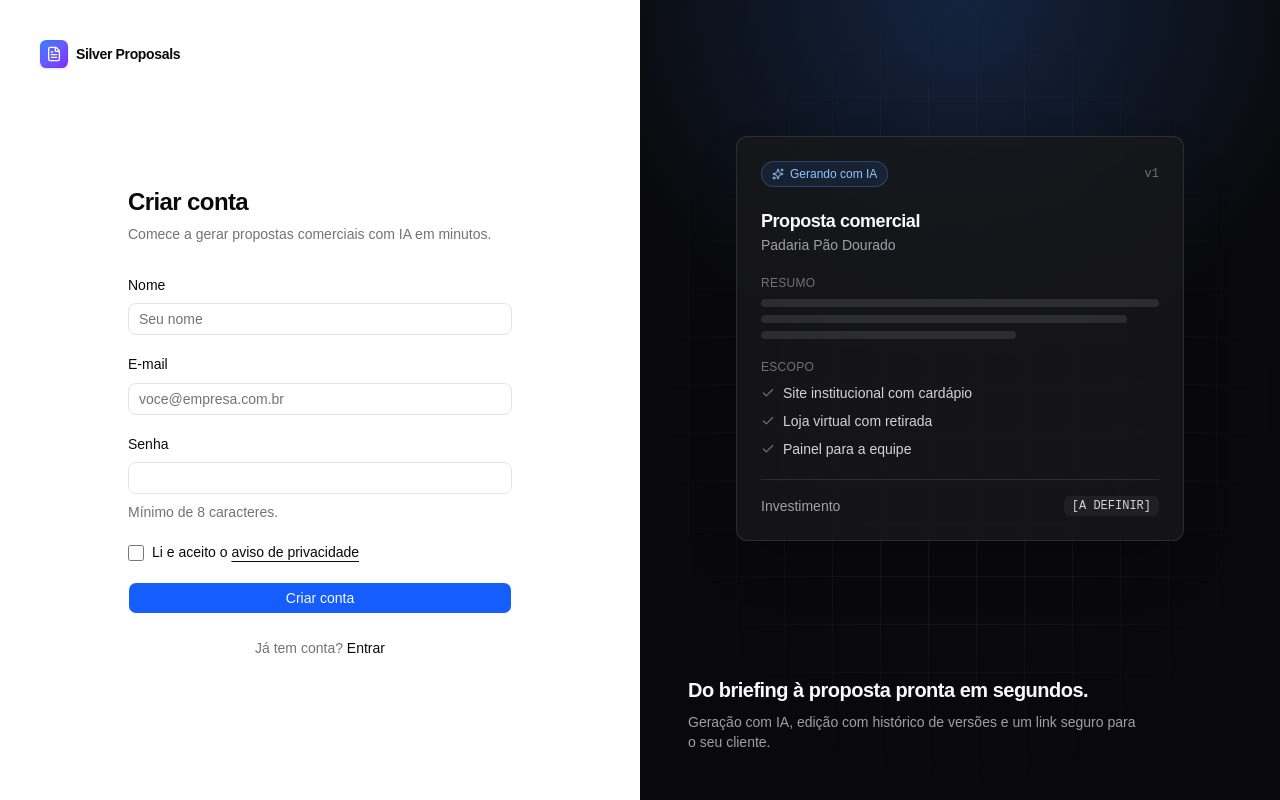
Test: RegisterPage › requires accepting the privacy notice, which opens in a new tab
In the field labelled "Nome": (320, 319) [128,303,512,335], type "Ana Lima"
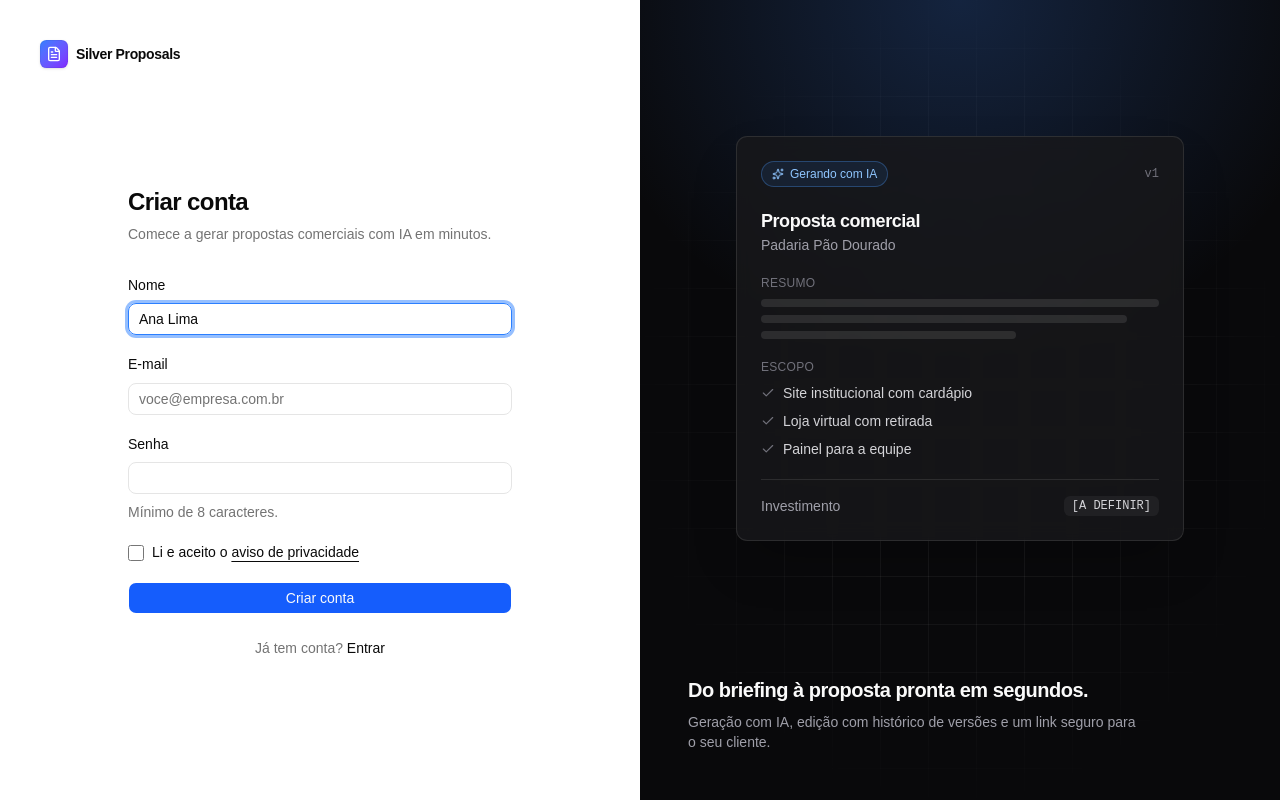
In the field labelled "E-mail": (320, 398) [128,382,512,414], type "ana@example.com"
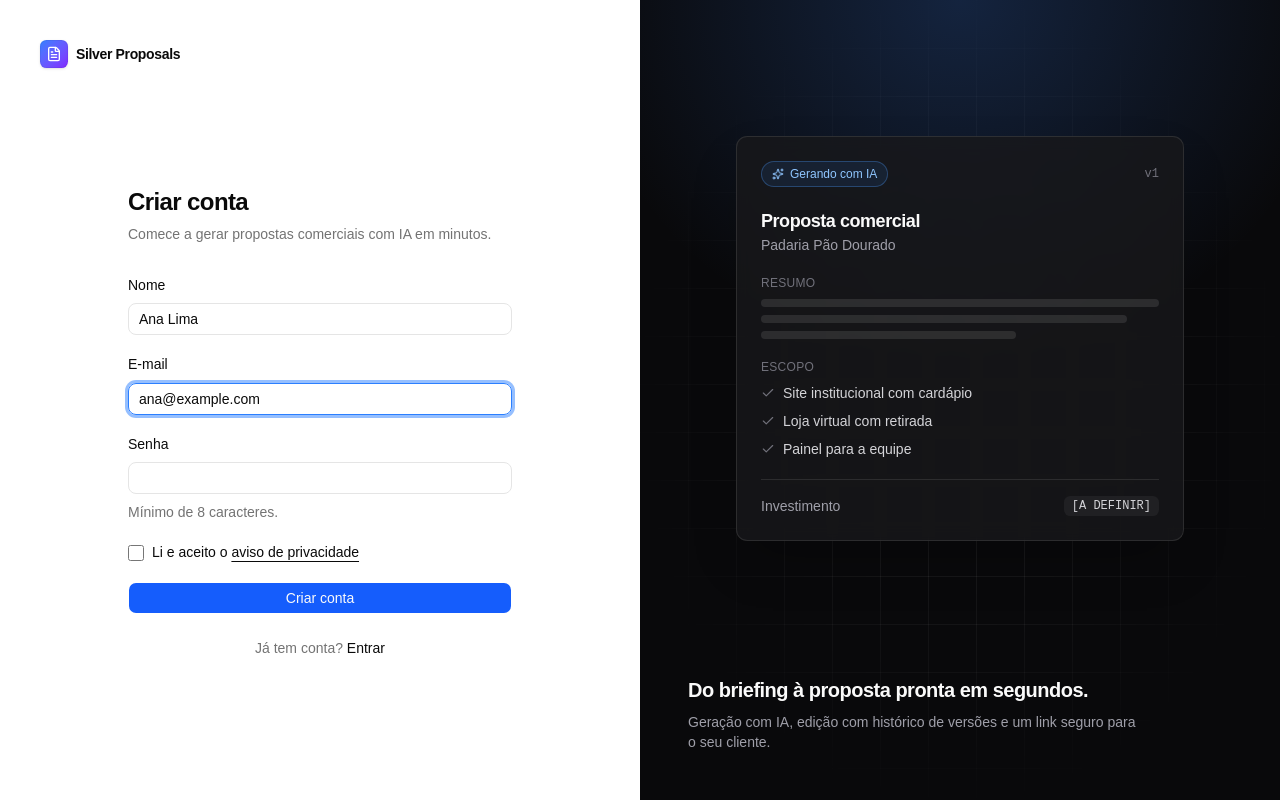
In the password field labelled "Senha": (320, 478) [128,462,512,494], type "uma senha longa"
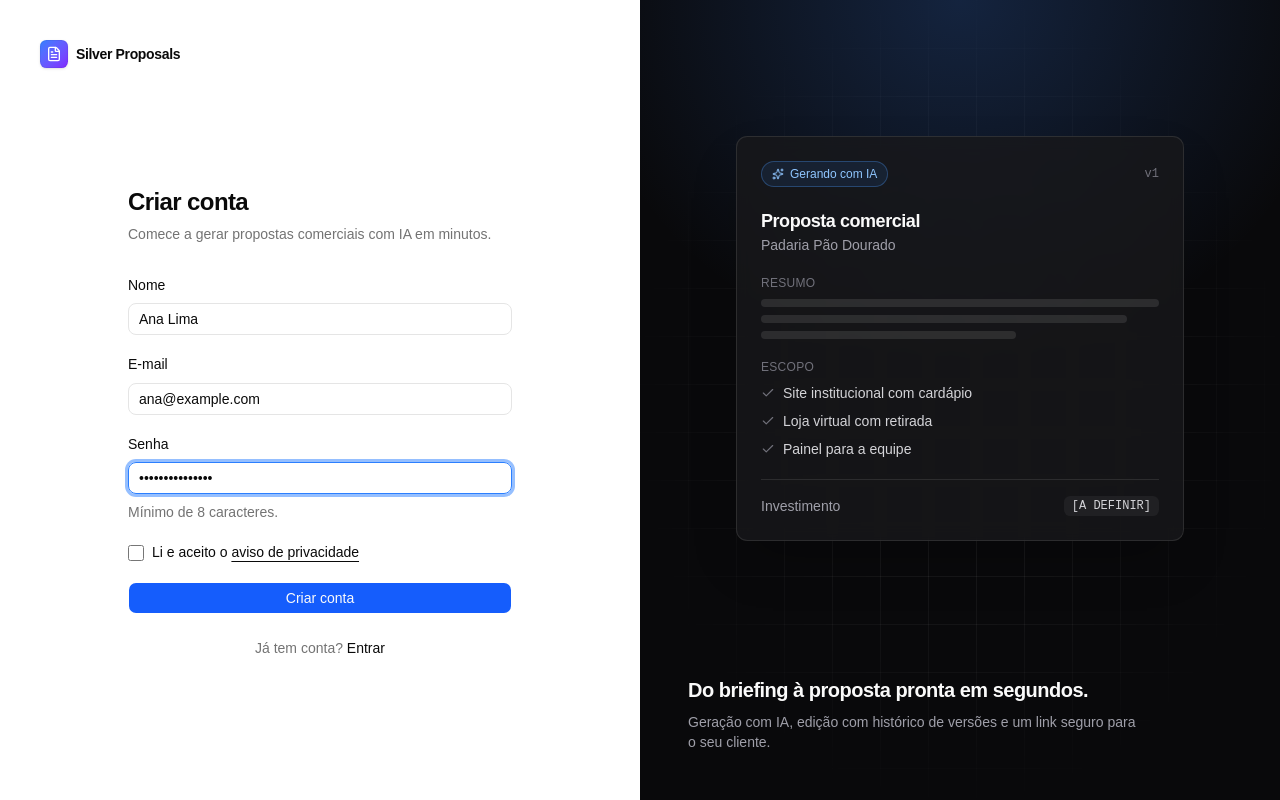
Click the button "Criar conta": (320, 598) [128,582,512,614]
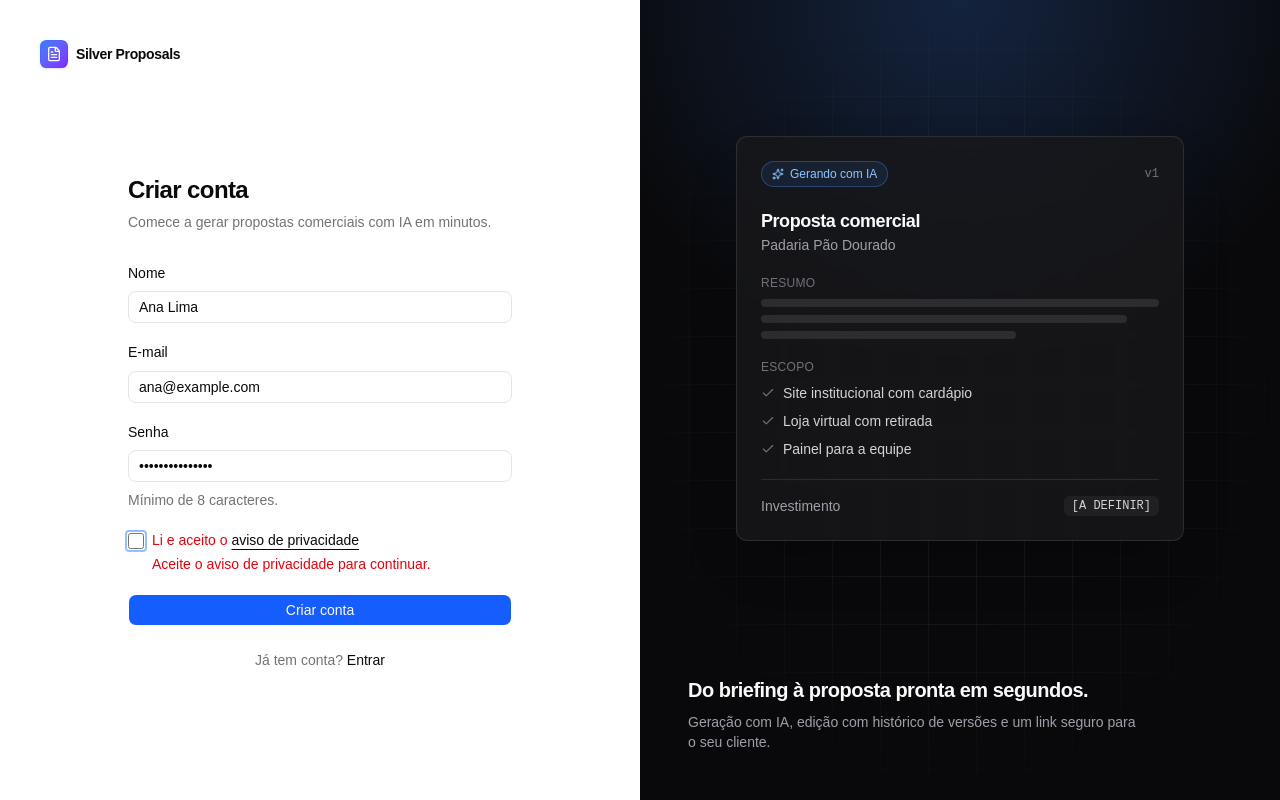
Expected: the text "Aceite o aviso de privacidade para continuar." is shown, [152,554,431,574]
